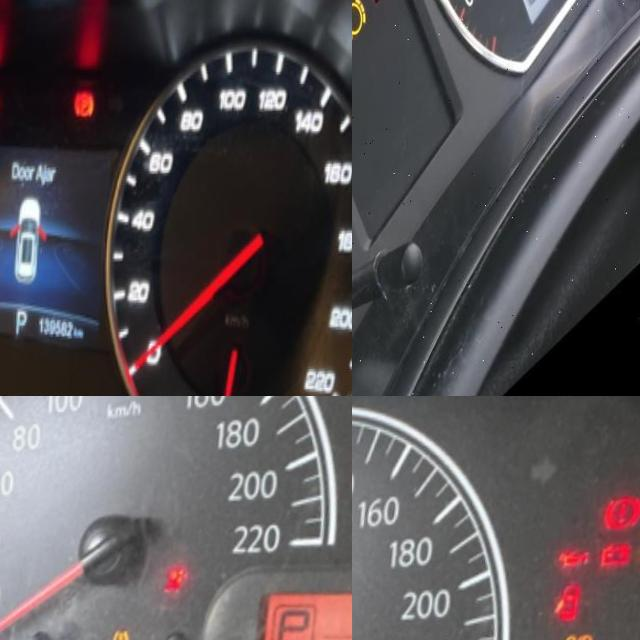Doors: (550, 588, 583, 634)
